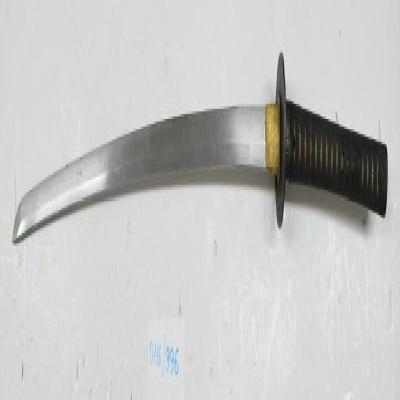weapon: (12, 76, 388, 246)
